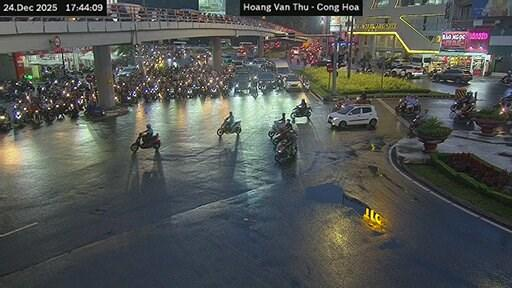motorbike: (130, 133, 160, 151), (275, 139, 297, 162), (409, 112, 426, 133), (395, 99, 419, 113), (272, 130, 295, 144), (218, 121, 240, 135), (83, 103, 103, 115), (268, 121, 284, 136), (291, 106, 310, 118), (0, 112, 10, 130), (31, 108, 41, 125), (42, 107, 54, 121), (499, 76, 511, 85)
